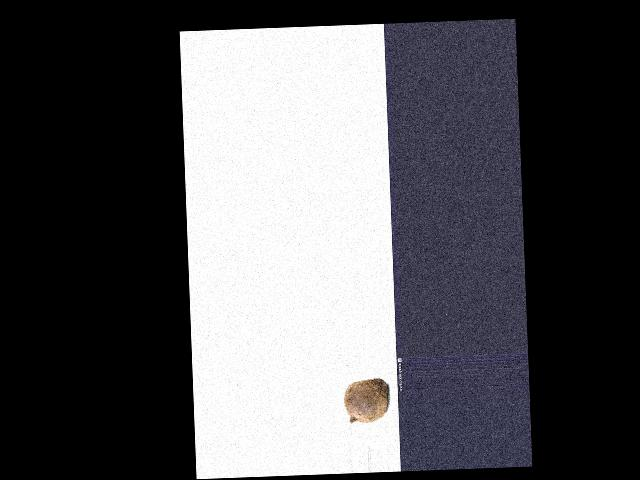beet: (343, 378, 390, 424)
